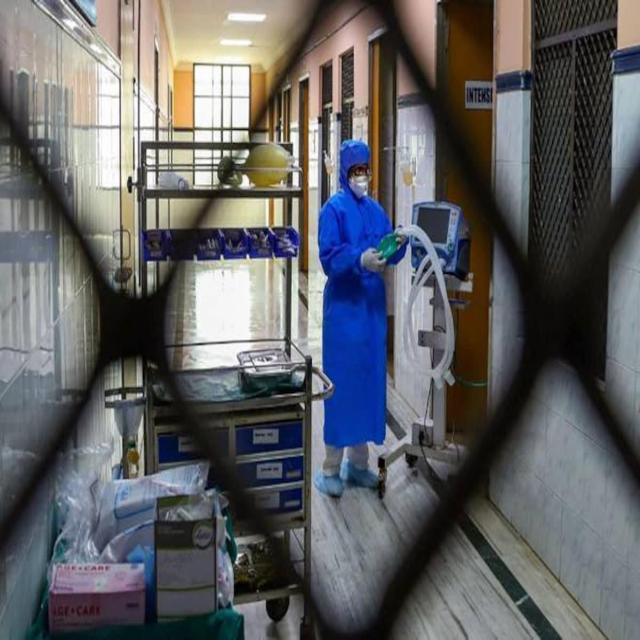Coverall: (304, 146, 418, 577)
Gloves: (360, 218, 390, 293)
Goggles: (349, 150, 385, 185)
Mask: (344, 165, 386, 214)
